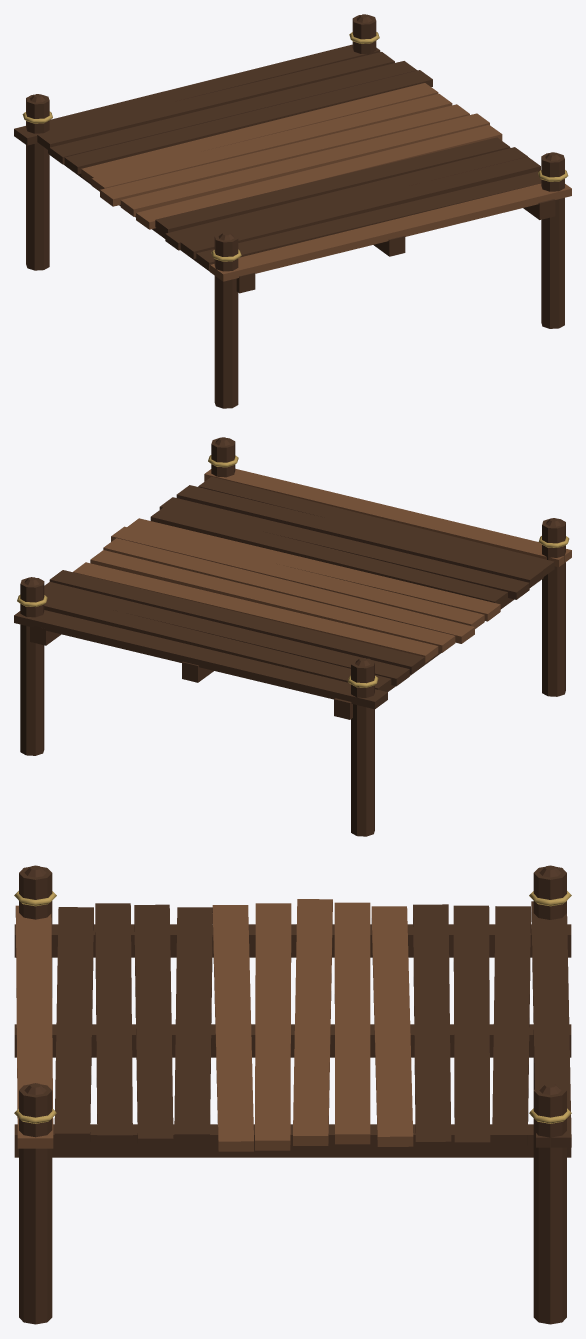
The model's file is dermaga.glb.
3 views of the same model, one above another, from view 1: azimuth 30°, elevation 25°; view 2: azimuth 150°, elevation 25°; view 3: azimuth 270°, elevation 25° (orthographic). The views are drawn at different scales.
Parts seen in each view (by area): view 1: dermaga_mesh; view 2: dermaga_mesh; view 3: dermaga_mesh.
Boxes of the visible parts, left/top/right/bottom form: dermaga_mesh: left=14, top=14, right=571, bottom=408; dermaga_mesh: left=14, top=437, right=571, bottom=836; dermaga_mesh: left=14, top=865, right=571, bottom=1324.
Bounding box in the file's own units: 4.12 × 1.84 × 4.01.
